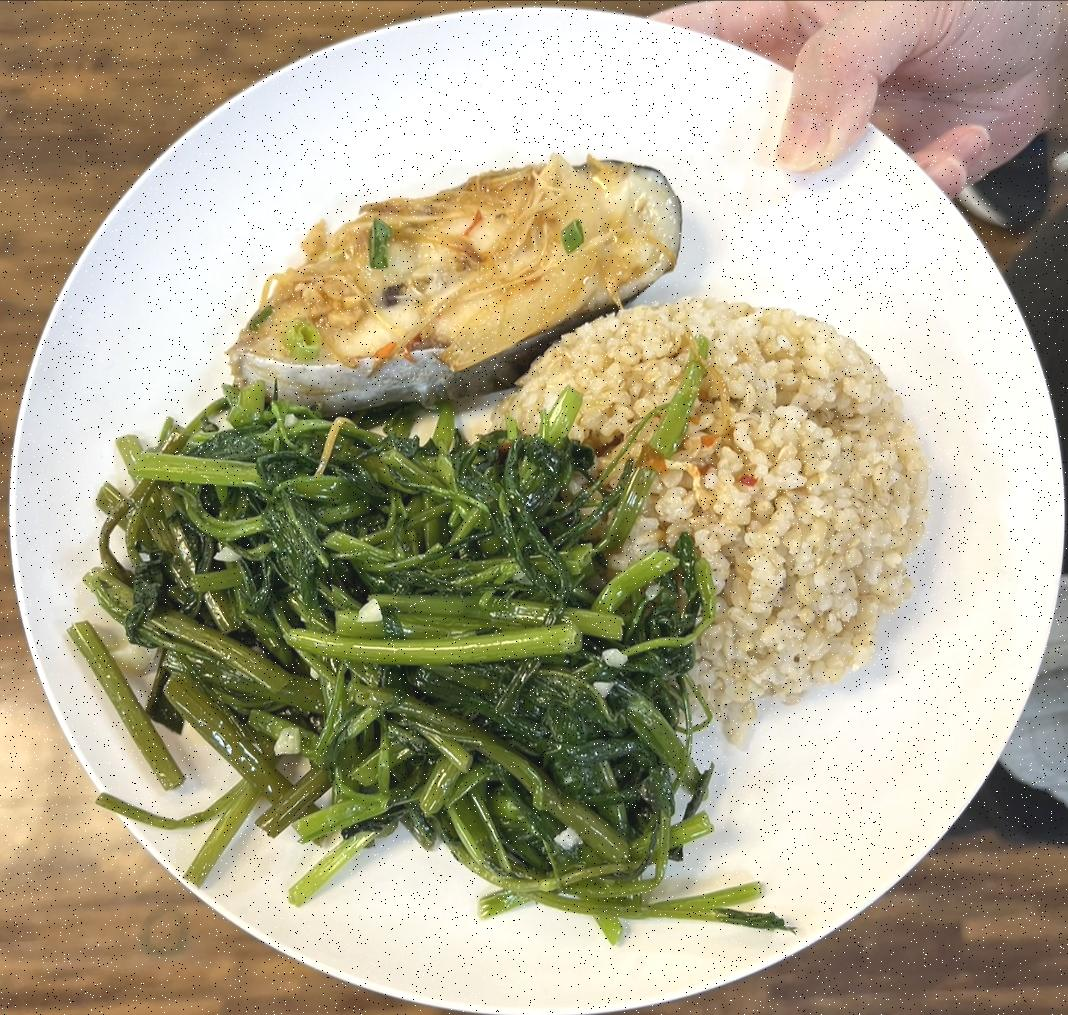braised fish: (231, 141, 680, 418)
brown rice: (506, 290, 922, 708)
plate: (8, 3, 1068, 1015)
side dish: (68, 391, 708, 932)
